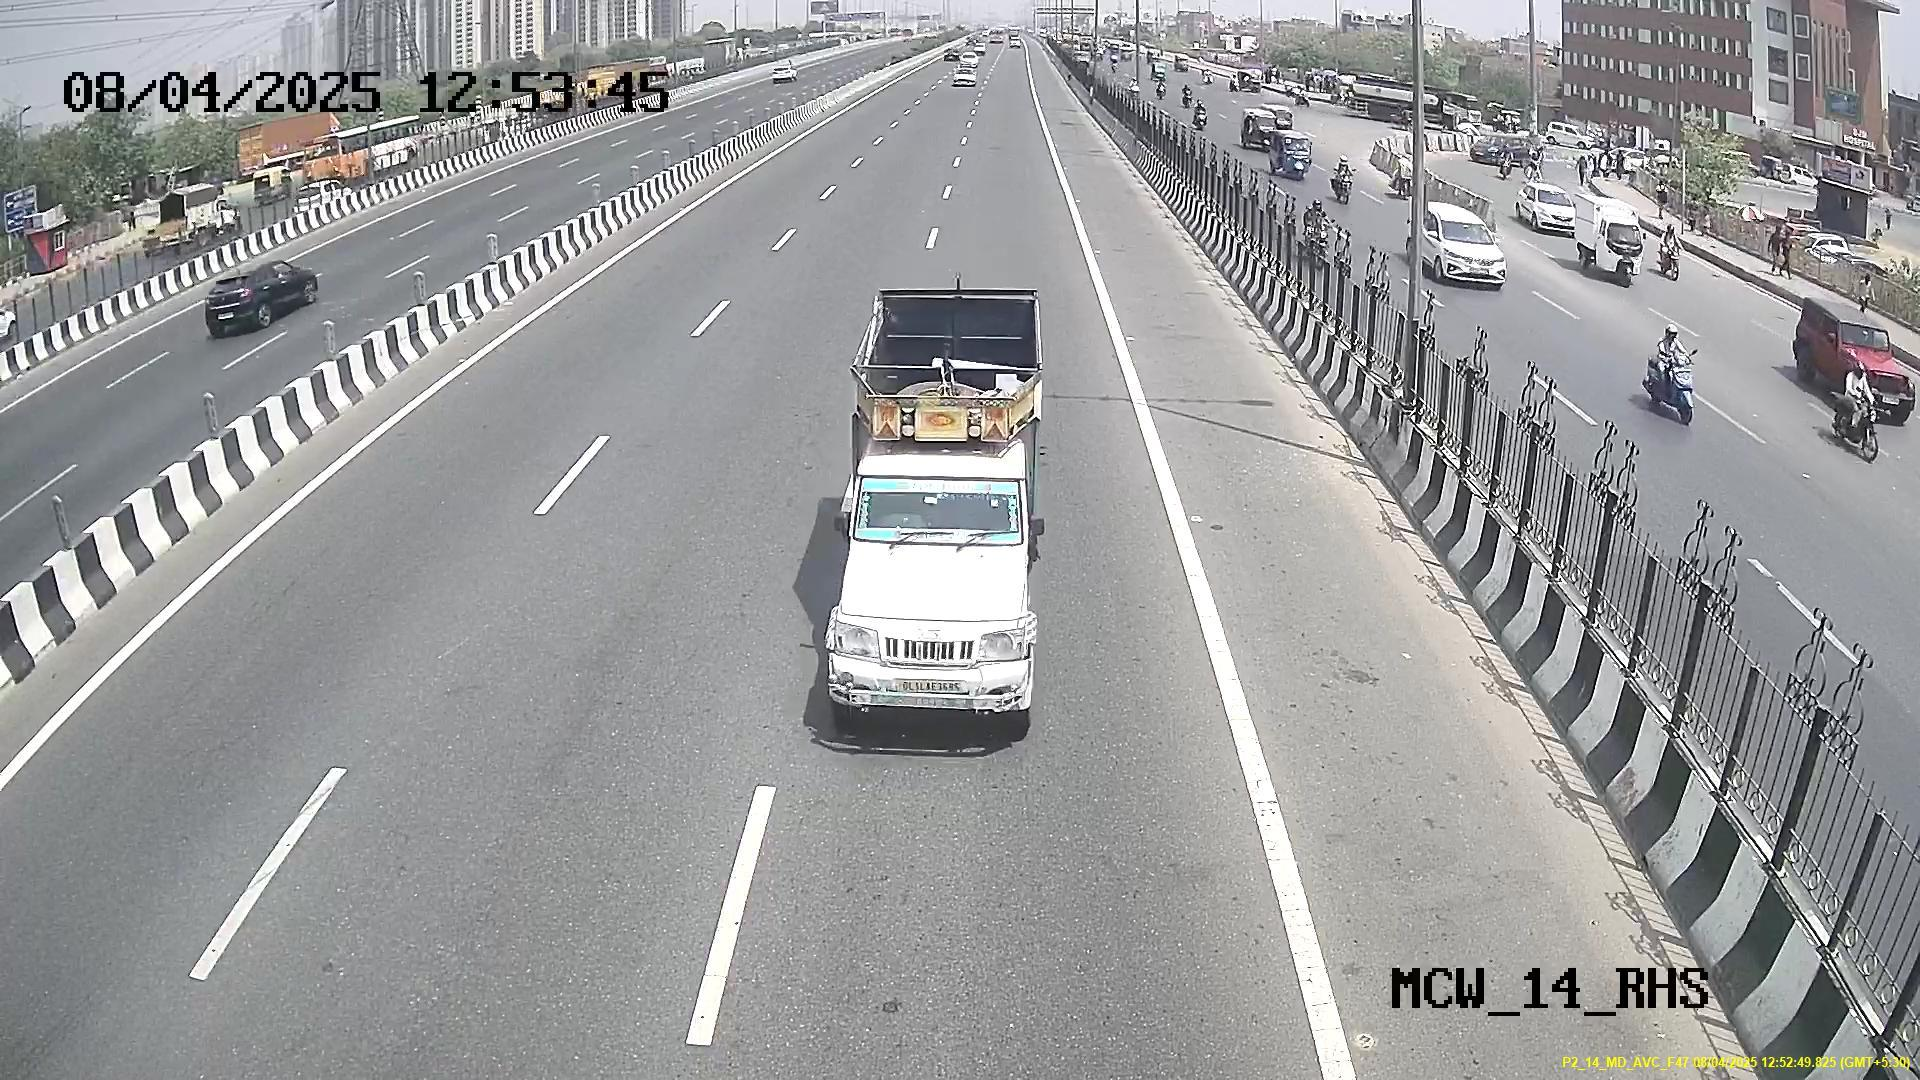car: (825, 425, 1044, 716)
